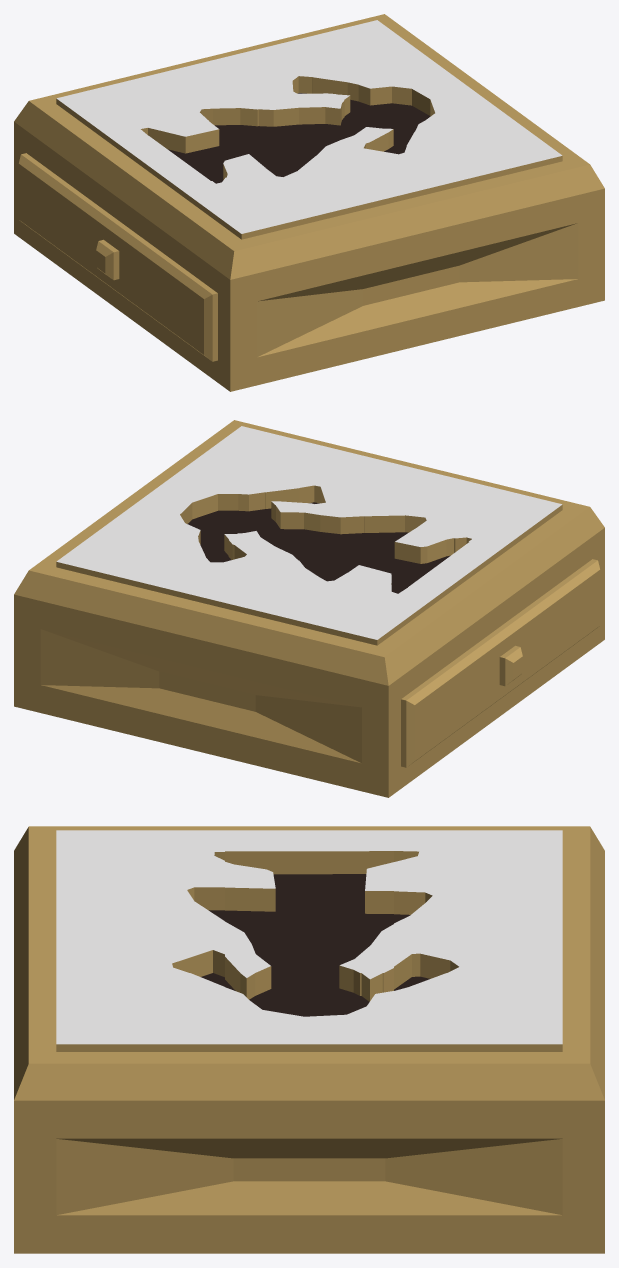
The model's file is Puzzle1_ChildsRoom.fbx.
3 renders of one model, top to bottom at view 1: azimuth 30°, elevation 25°; view 2: azimuth 150°, elevation 25°; view 3: azimuth 270°, elevation 25°, orthographic. The views are drawn at different scales.
Visible parts, largest first — view 1: Room1_Box, Room1_drawer, Room1_Piece.009, Room1_Piece.004, Room1_Piece.002, Room1_Piece.003, Room1_Piece.005, Room1_Piece.001, Room1_Piece.007, Room1_Piece.006, Room1_Piece.008; view 2: Room1_Box, Room1_drawer, Room1_Piece.002, Room1_Piece.007, Room1_Piece.006, Room1_Piece.009, Room1_Piece.001, Room1_Piece.005, Room1_Piece.003, Room1_Piece.004, Room1_Piece.008; view 3: Room1_Box, Room1_Piece.008, Room1_Piece.003, Room1_Piece.001, Room1_Piece.007, Room1_Piece.009, Room1_Piece.004, Room1_Piece.006, Room1_Piece.005, Room1_Piece.002.
Part boxes in pixels (<box>): Room1_Box: <box>14,14,604,391</box>; Room1_drawer: <box>18,153,217,361</box>; Room1_Piece.009: <box>179,168,348,239</box>; Room1_Piece.004: <box>163,46,321,134</box>; Room1_Piece.002: <box>336,65,500,153</box>; Room1_Piece.003: <box>394,110,562,187</box>; Room1_Piece.005: <box>225,93,393,176</box>; Room1_Piece.001: <box>270,20,438,103</box>; Room1_Piece.007: <box>56,72,224,148</box>; Room1_Piece.006: <box>298,143,455,213</box>; Room1_Piece.008: <box>118,121,282,193</box>; Room1_Box: <box>14,420,604,797</box>; Room1_drawer: <box>401,559,600,767</box>; Room1_Piece.002: <box>118,471,280,559</box>; Room1_Piece.007: <box>270,572,439,645</box>; Room1_Piece.006: <box>299,452,455,540</box>; Room1_Piece.009: <box>394,478,562,554</box>; Room1_Piece.001: <box>56,516,224,593</box>; Room1_Piece.005: <box>225,501,393,581</box>; Room1_Piece.003: <box>180,426,348,510</box>; Room1_Piece.004: <box>163,545,319,619</box>; Room1_Piece.008: <box>348,528,500,599</box>; Room1_Box: <box>14,826,604,1253</box>; Room1_Piece.008: <box>225,830,393,924</box>; Room1_Piece.003: <box>56,973,224,1051</box>; Room1_Piece.001: <box>394,973,562,1051</box>; Room1_Piece.007: <box>394,830,562,923</box>; Room1_Piece.009: <box>56,830,224,920</box>; Room1_Piece.004: <box>394,901,562,990</box>; Room1_Piece.006: <box>56,901,224,986</box>; Room1_Piece.005: <box>225,921,393,995</box>; Room1_Piece.002: <box>225,973,393,1051</box>.
Bounding box in the file's own units: 0.74 × 0.7 × 0.25.
